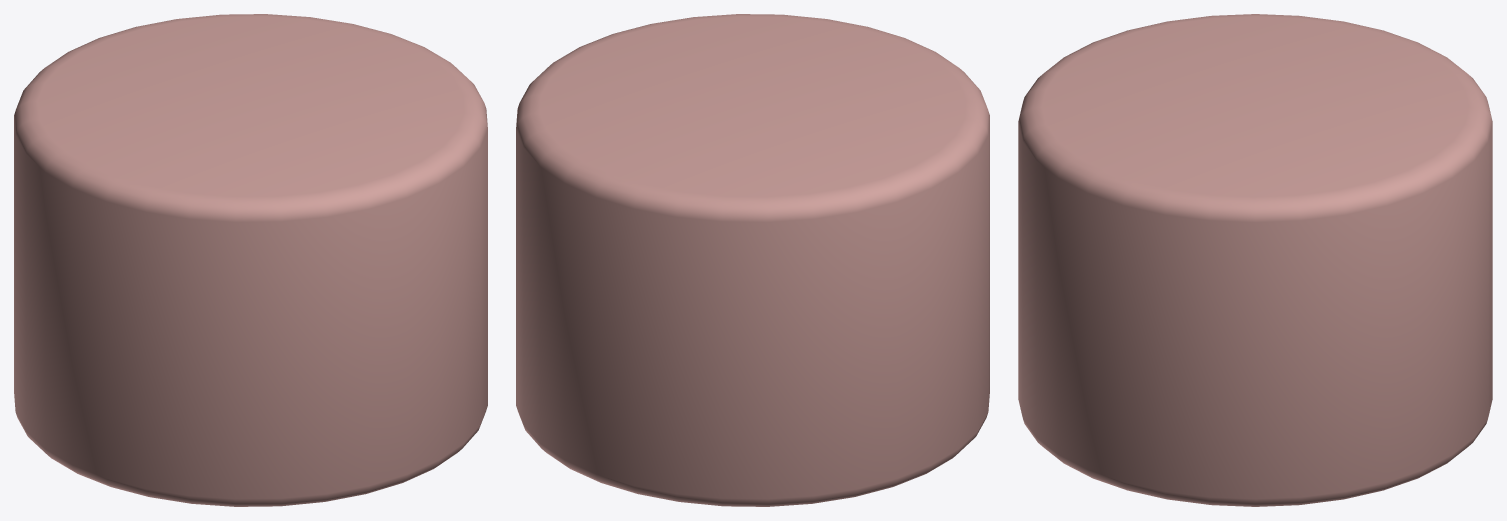
File: outerfrosting_8.glb
3 renders of one model, left to right at view 1: azimuth 30°, elevation 25°; view 2: azimuth 150°, elevation 25°; view 3: azimuth 270°, elevation 25°, orthographic.
Visible parts, largest first — view 1: 8_OuterFrosting; view 2: 8_OuterFrosting; view 3: 8_OuterFrosting.
Part boxes in pixels (left/top/right/bottom): 8_OuterFrosting: left=14, top=14, right=487, bottom=506; 8_OuterFrosting: left=516, top=14, right=989, bottom=506; 8_OuterFrosting: left=1018, top=14, right=1492, bottom=506.
Size of the model in its own units: 0.21 by 0.15 by 0.21.
